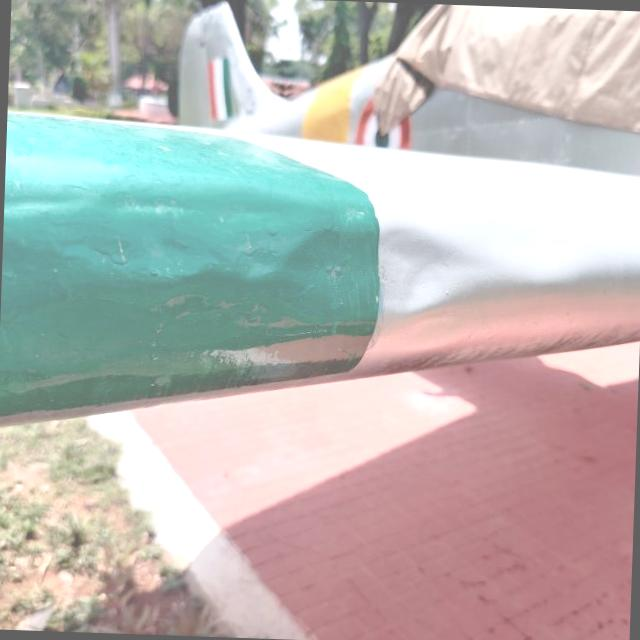dent: (264, 199, 503, 348)
